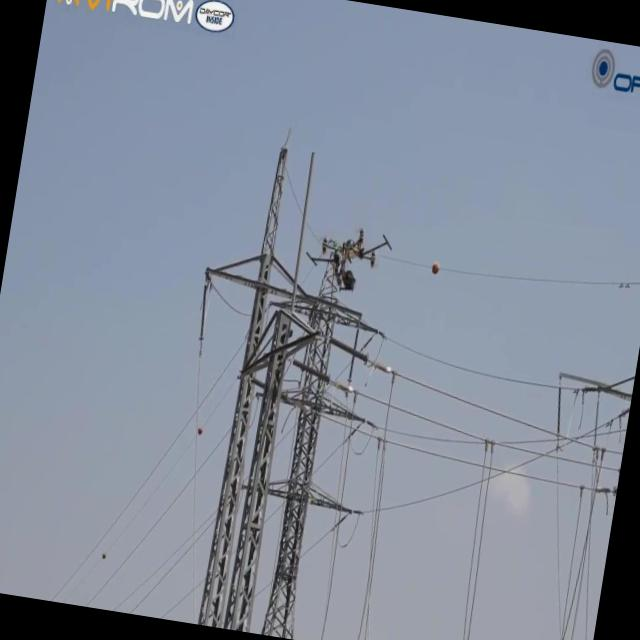drone: (301, 218, 394, 300)
